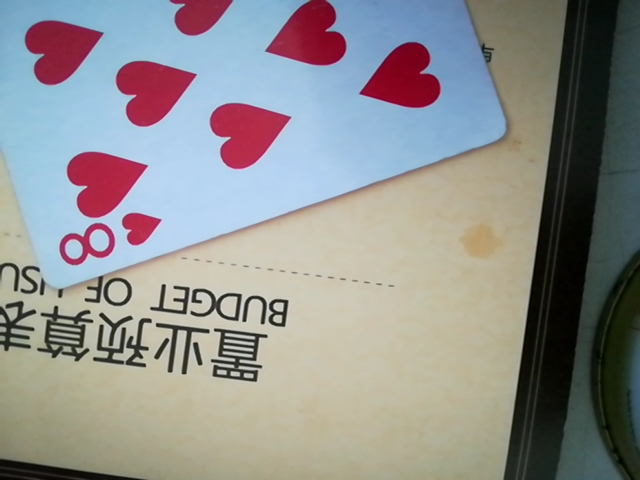hx 8: (0, 0, 498, 280)
